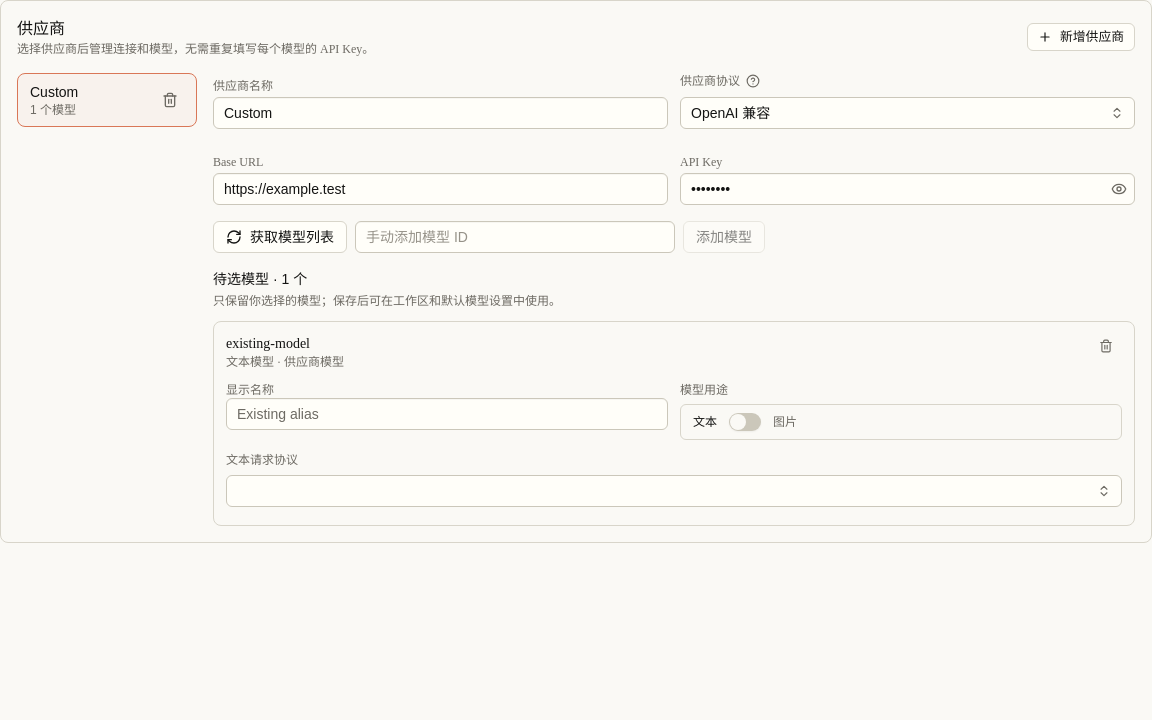
Scenario: ProviderSettingsPanel model selection › cancels selection without changing configured models
Click the button "获取模型列表". click: (280,237)
box: [213, 221, 347, 253]
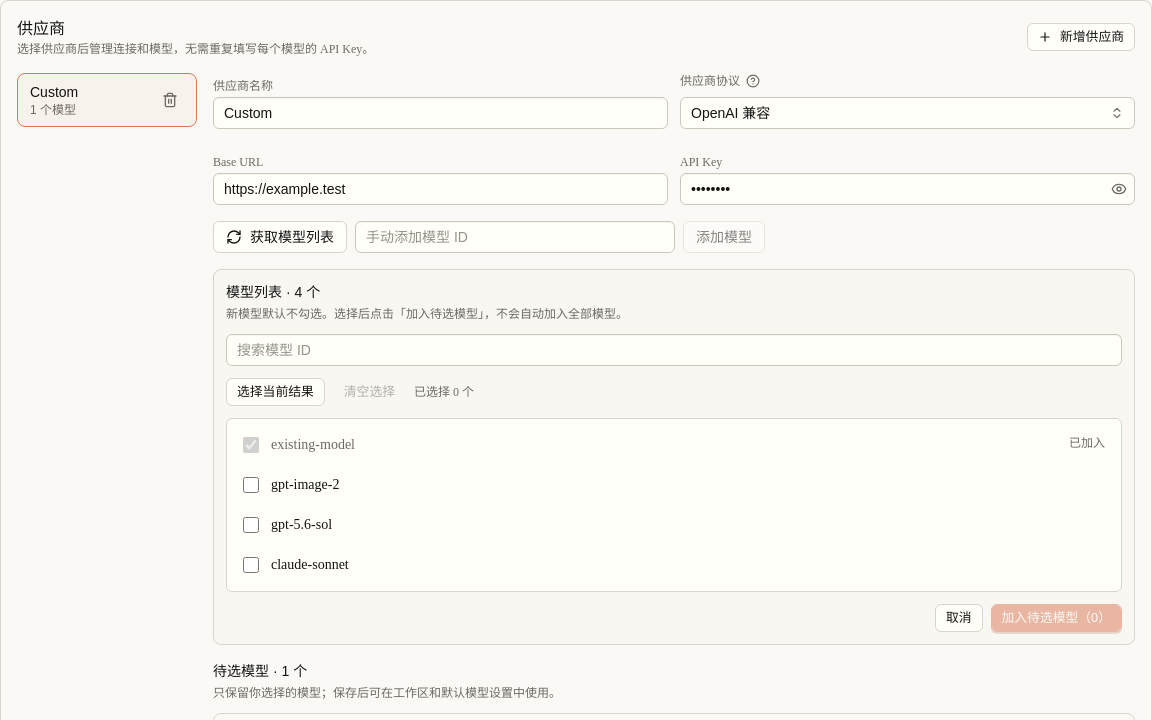
Click the checkbox named "选择模型 gpt-image-2". click: (251,485)
box: [243, 477, 259, 493]
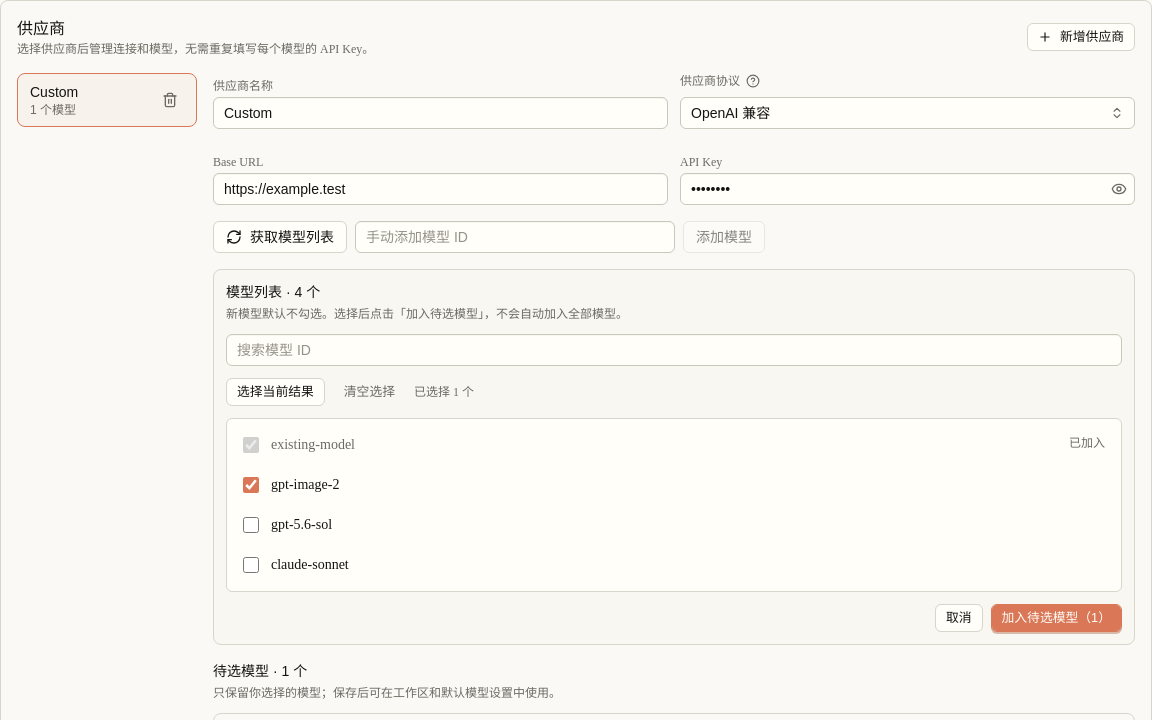
Click the button "取消". click: (959,618)
box: [935, 604, 982, 632]
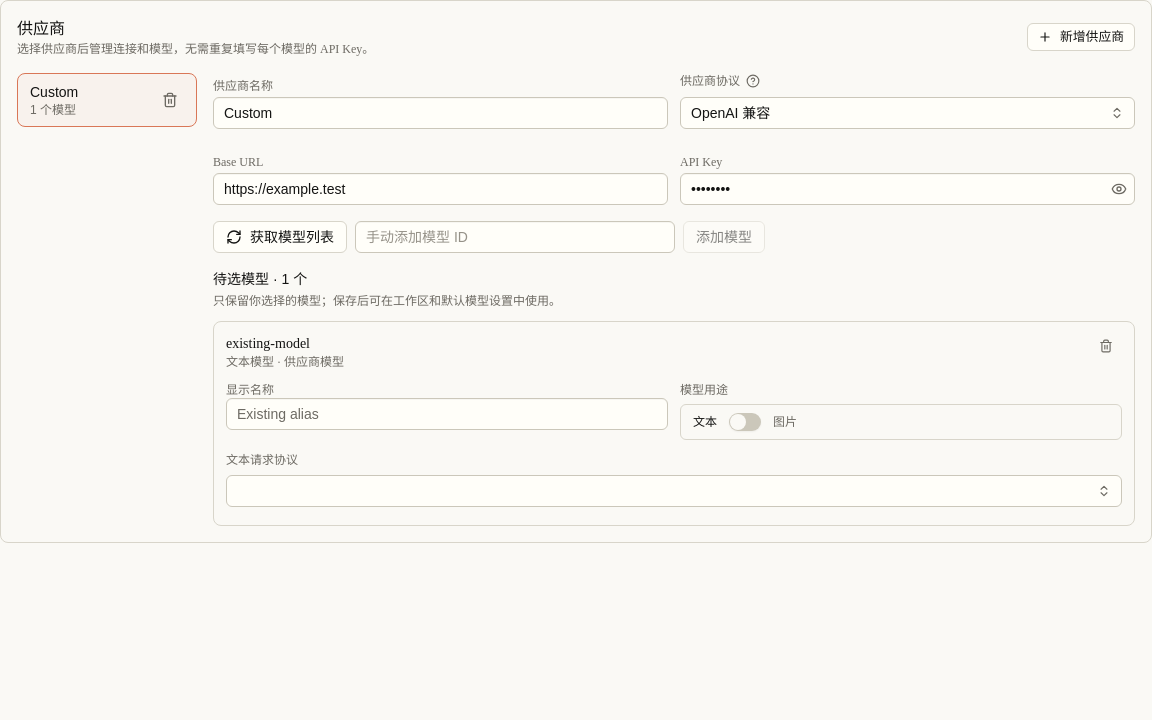
Result: the element "供应商模型列表" is gone
Result: the checkbox labelled "模型 gpt-image-2" is gone
